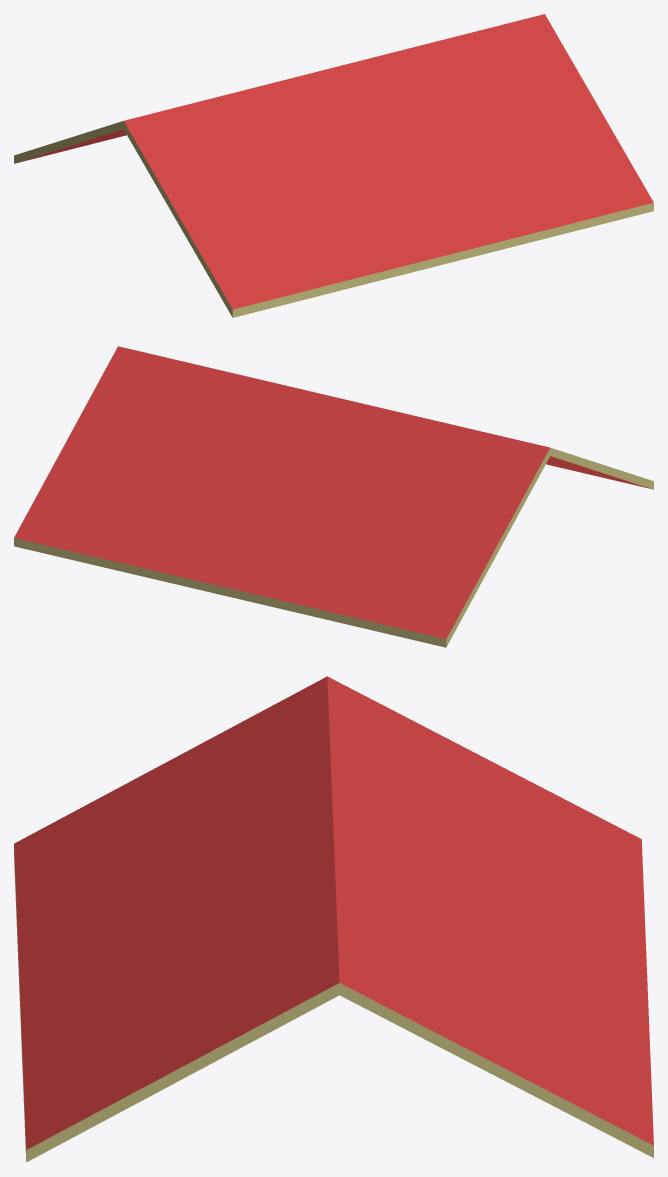
3 views of the same model, one above another, from view 1: azimuth 30°, elevation 25°; view 2: azimuth 150°, elevation 25°; view 3: azimuth 270°, elevation 25° (orthographic). The views are drawn at different scales.
Size of the model in its own units: 5.36 by 4.66 by 1.43.
